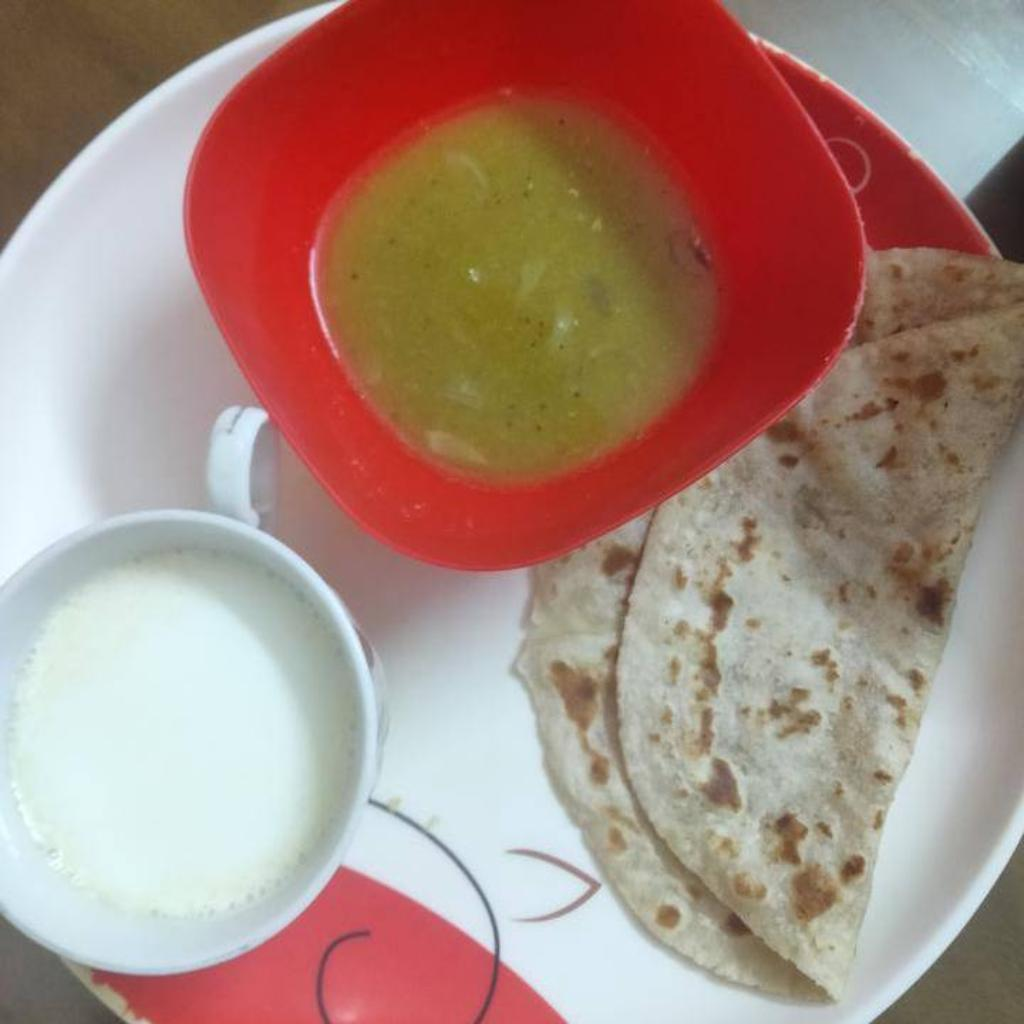daal: (308, 100, 715, 490)
milk: (3, 553, 359, 919)
ruti: (504, 246, 1023, 997)
